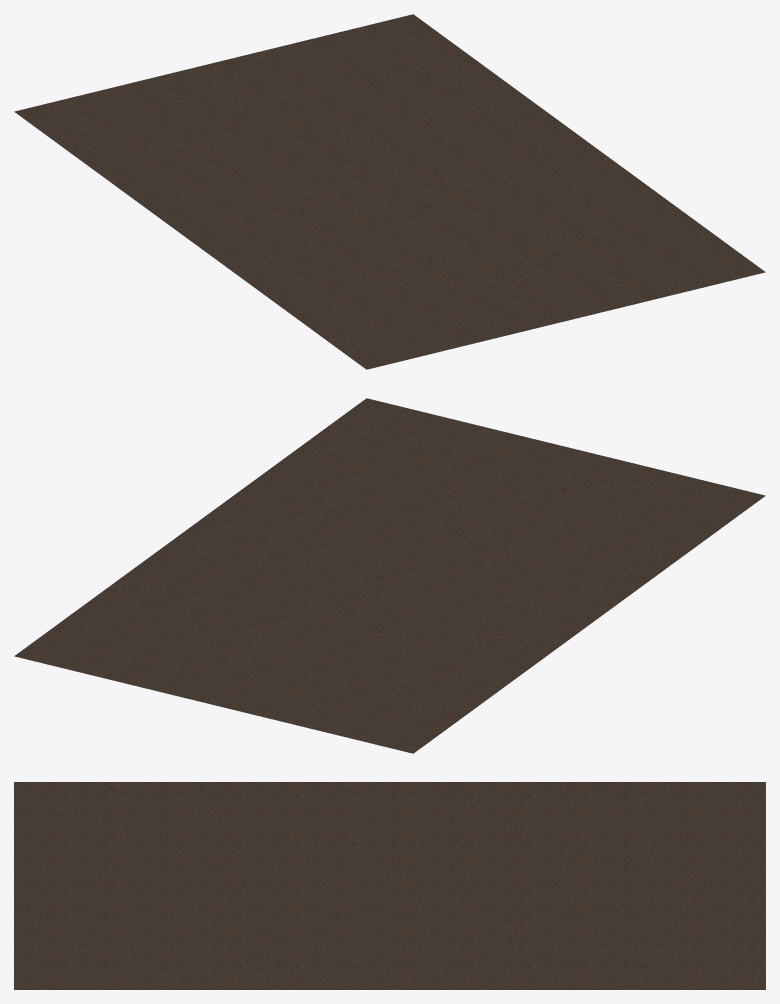
Rendered from Authored__Street_Surface.obj.
The picture shows the model from 3 angles, top to bottom: view 1: azimuth 30°, elevation 25°; view 2: azimuth 150°, elevation 25°; view 3: azimuth 270°, elevation 25°; orthographic projection. The views are drawn at different scales.
Visible parts, largest first — view 1: Street_Surface; view 2: Street_Surface; view 3: Street_Surface.
Boxes of the visible parts, bbox=[...] form: Street_Surface: bbox=[14, 14, 765, 369]; Street_Surface: bbox=[14, 398, 765, 753]; Street_Surface: bbox=[14, 782, 765, 989].
Size of the model in its own units: 34 by 0 by 52.
Materials: 1 (1 with a texture image).
